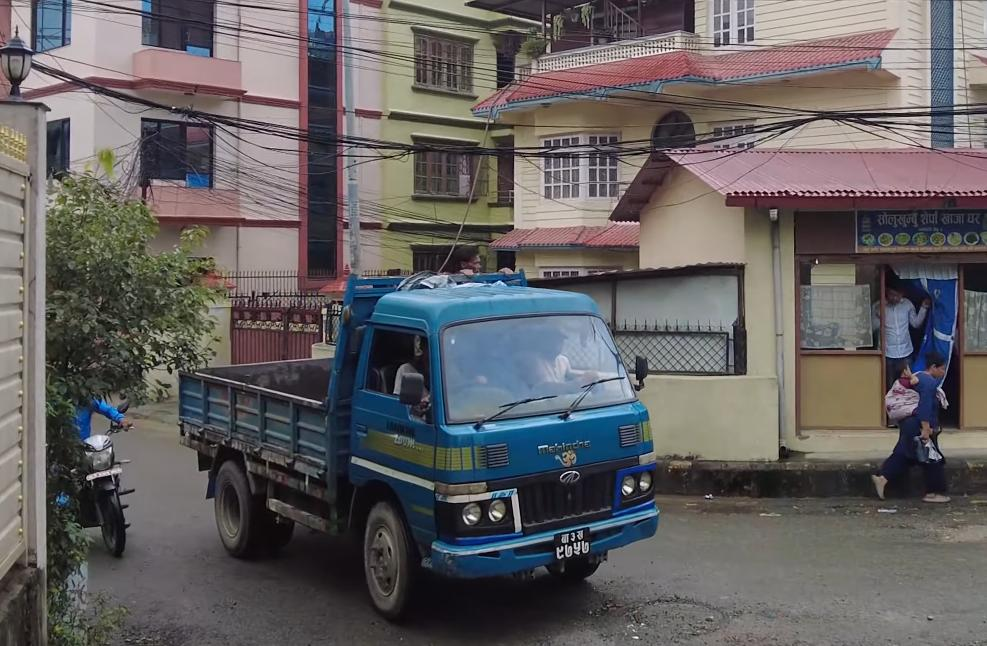bike: (52, 360, 142, 564)
mini_truck: (173, 264, 668, 627)
